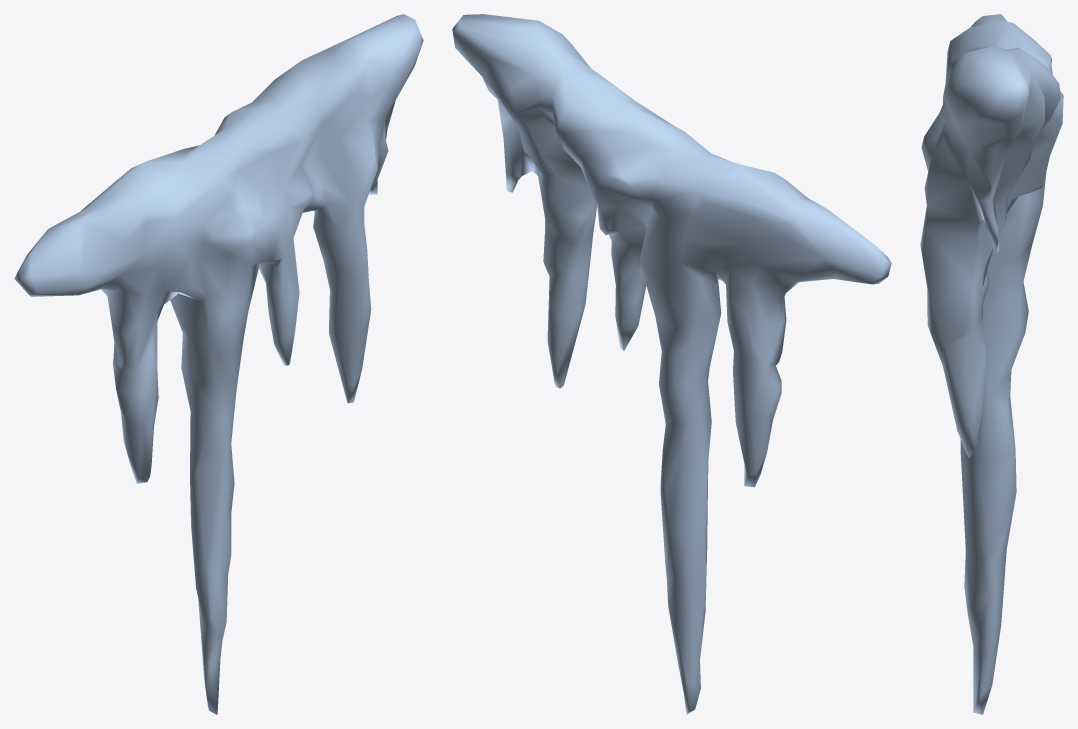
The model's file is IciclesSmall_Cables_03.fbx.
3 views of the same model, side by side, from view 1: azimuth 30°, elevation 25°; view 2: azimuth 150°, elevation 25°; view 3: azimuth 270°, elevation 25° (orthographic). The views are drawn at different scales.
Parts seen in each view (by area): view 1: IciclesSmall_Cables_03.001; view 2: IciclesSmall_Cables_03.001; view 3: IciclesSmall_Cables_03.001.
Part boxes in pixels (x1,y1,x2,y2): IciclesSmall_Cables_03.001: (14, 14, 423, 714); IciclesSmall_Cables_03.001: (452, 14, 891, 714); IciclesSmall_Cables_03.001: (920, 14, 1063, 714).
Size of the model in its own units: 0.3006 by 0.4466 by 0.0771.
